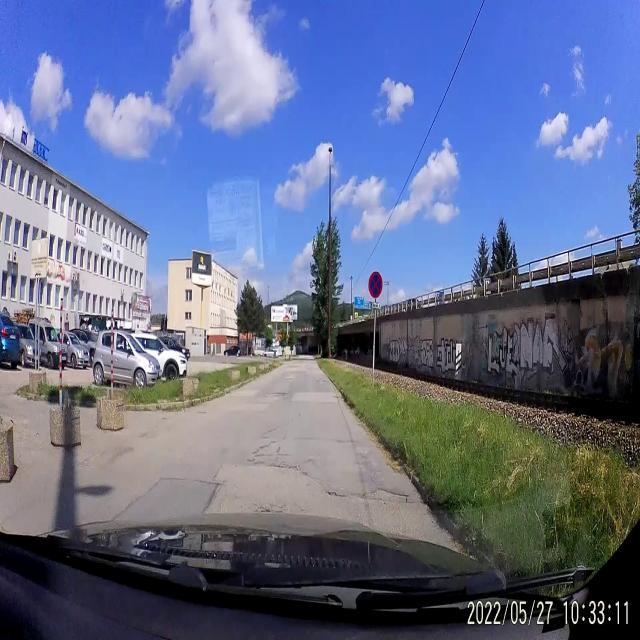Pothole: (362, 484, 412, 508), (270, 458, 307, 471), (324, 484, 348, 501), (252, 503, 288, 512), (268, 388, 287, 399), (196, 409, 207, 416)
